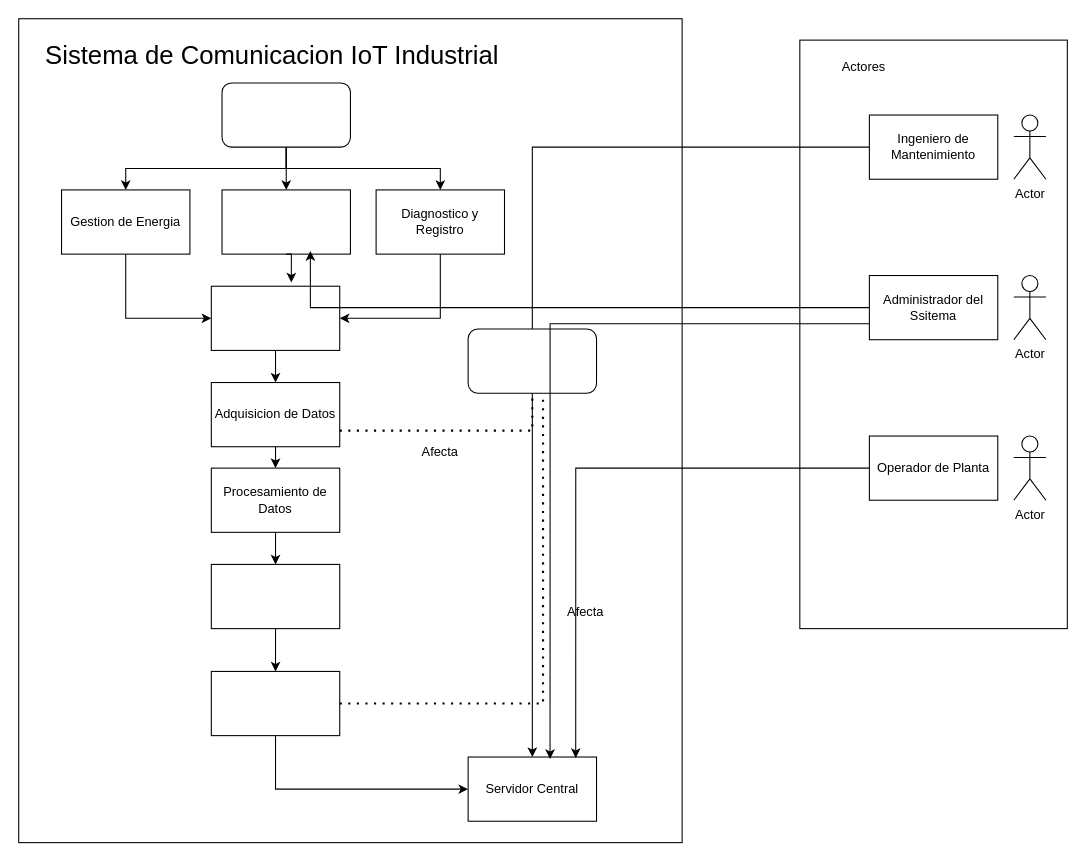
Image size: 1086x861. Some labels were removed from this diagram. Here are the shapes that lost their labels. From the top down, the centre of each, then its label:
At [285,114]: "Bateria".
At [285,221]: "Actualizacion Remota".
At [275,317]: "Microcontrolador ARM".
At [532,360]: "Interferencia Electromagnetica".
At [275,596]: "Cifrado de Datos".
At [275,703]: "Transmision MQTT".
